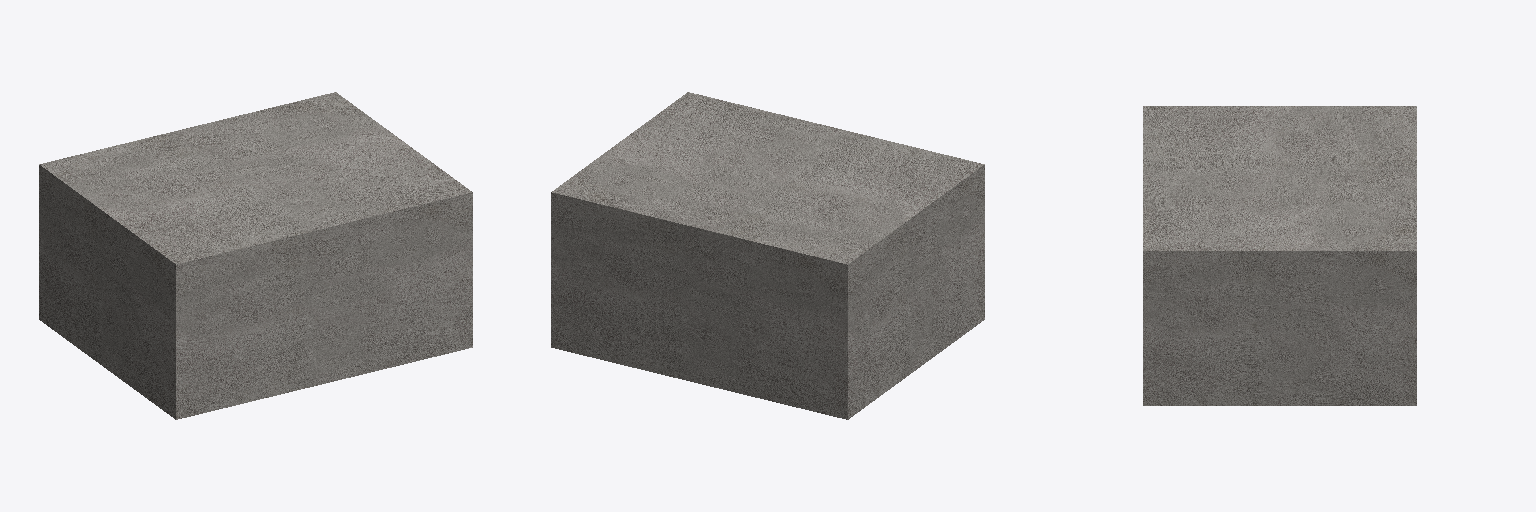
3 renders of one model, left to right at view 1: azimuth 30°, elevation 25°; view 2: azimuth 150°, elevation 25°; view 3: azimuth 270°, elevation 25°, orthographic.
Parts seen in each view (by area): view 1: 5x4x2,5; view 2: 5x4x2,5; view 3: 5x4x2,5.
Boxes of the visible parts, box(x1,y1,x2,y2) form: 5x4x2,5: box(39, 92, 472, 419); 5x4x2,5: box(551, 92, 984, 419); 5x4x2,5: box(1143, 106, 1416, 405).
Size of the model in its own units: 5 by 2.5 by 4.
Materials: 1 (1 with a texture image).